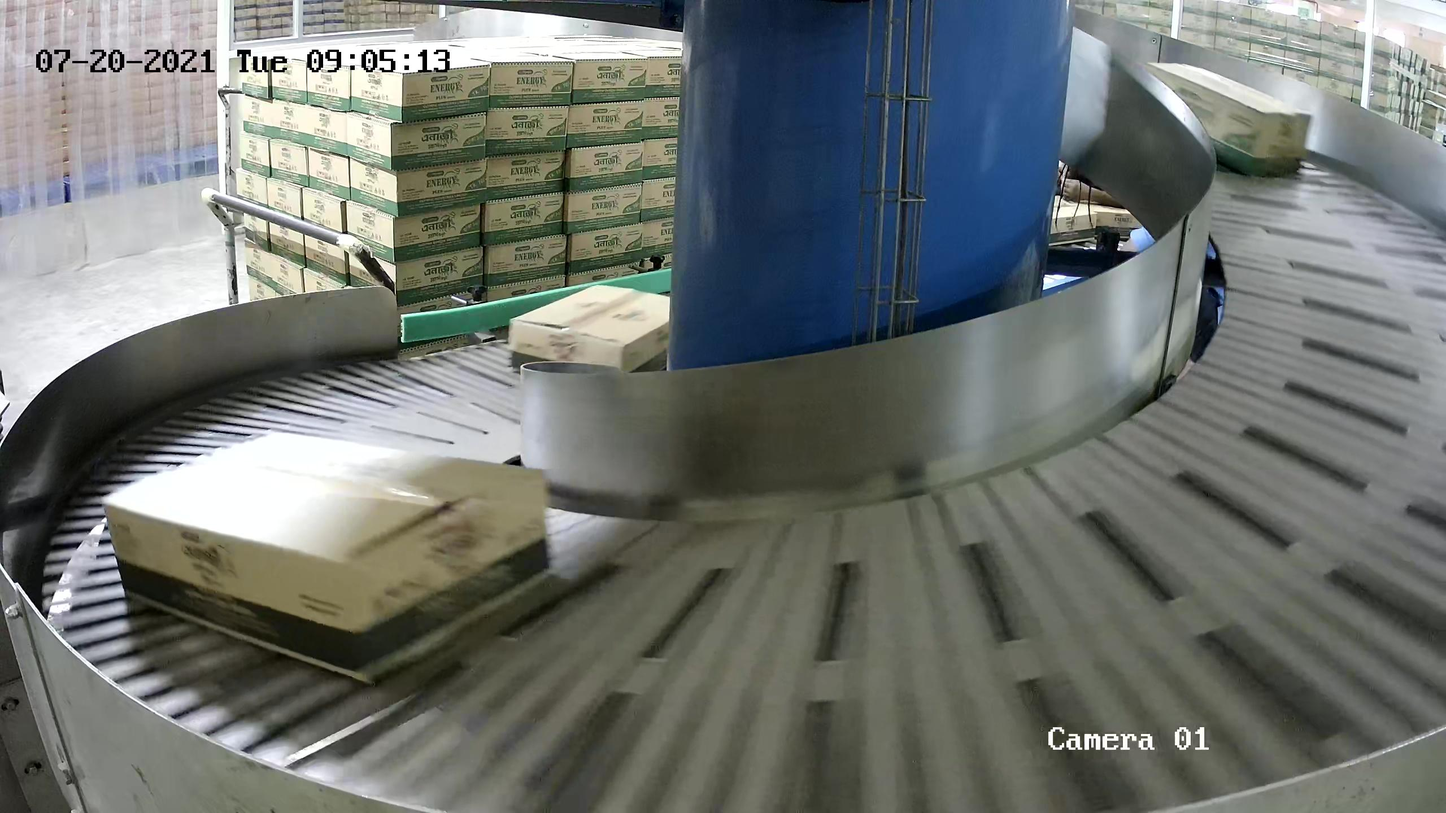Box: (100, 431, 555, 687), (1137, 61, 1317, 179), (508, 283, 696, 391)
